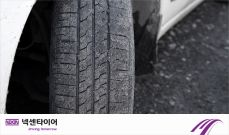bad_condition: (52, 2, 139, 113)
